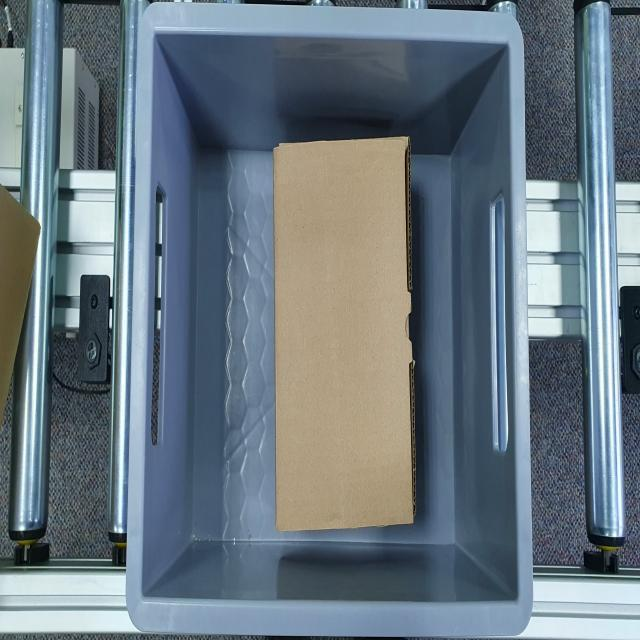box: (275, 132, 420, 533)
